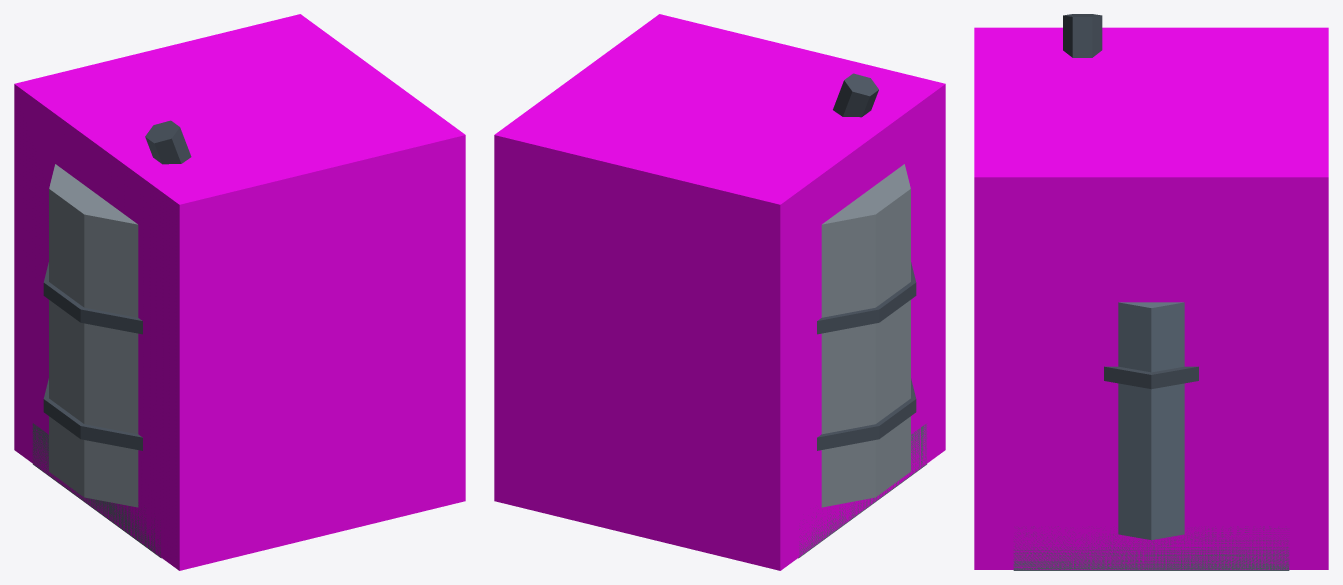
File: refinery.glb
3 views of the same model, side by side, from view 1: azimuth 30°, elevation 25°; view 2: azimuth 150°, elevation 25°; view 3: azimuth 270°, elevation 25° (orthographic). The views are drawn at different scales.
Visible parts, largest first — view 1: Col_main, M_b1, M_b2, M_b0; view 2: Col_main, M_b1, M_b2, M_b0; view 3: Col_main, M_b0, M_b2.
Boxes of the visible parts, x1,y1,x2,y2 form: Col_main: [14, 14, 465, 570]; M_b1: [49, 164, 138, 507]; M_b2: [43, 120, 191, 450]; M_b0: [32, 423, 161, 558]; Col_main: [494, 14, 945, 570]; M_b1: [821, 164, 910, 507]; M_b2: [817, 73, 916, 450]; M_b0: [798, 424, 926, 558]; Col_main: [974, 27, 1328, 569]; M_b0: [1013, 302, 1289, 570]; M_b2: [1063, 14, 1198, 389].
Size of the model in its own units: 2.12 by 2.4 by 1.8.
